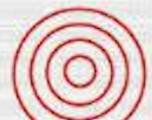target_red: (10, 5, 147, 119)
